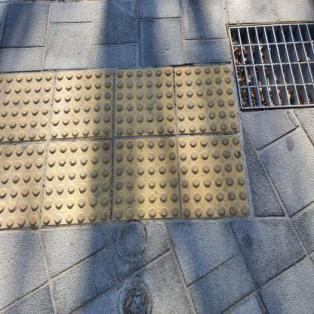Podoctatil: (0, 52, 255, 236)
